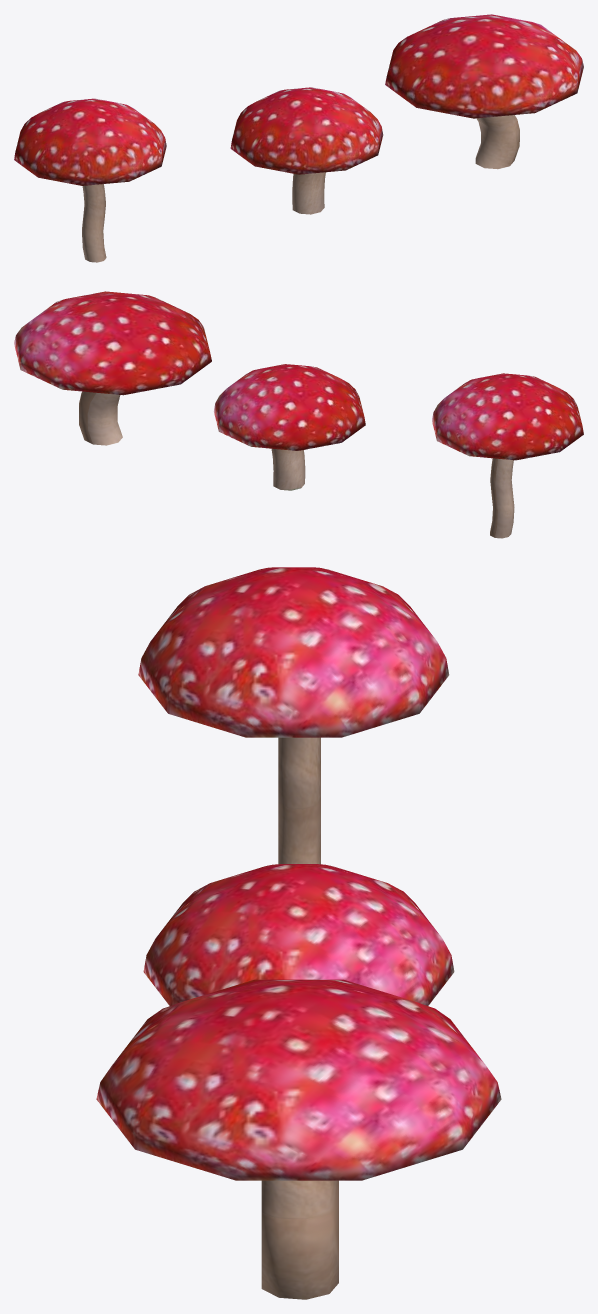
File: Mushroom.fbx
3 renders of one model, top to bottom at view 1: azimuth 30°, elevation 25°; view 2: azimuth 150°, elevation 25°; view 3: azimuth 270°, elevation 25°, orthographic. The views are drawn at different scales.
Visible parts, largest first — view 1: Mushroom_2, Mushroom_3, Mushroom_1; view 2: Mushroom_2, Mushroom_3, Mushroom_1; view 3: Mushroom_2, Mushroom_3, Mushroom_1.
Boxes of the visible parts, box(x1,y1,x2,y2) form: Mushroom_2: box(385, 14, 583, 169); Mushroom_3: box(14, 98, 166, 262); Mushroom_1: box(230, 87, 383, 214); Mushroom_2: box(14, 291, 211, 445); Mushroom_3: box(432, 373, 583, 538); Mushroom_1: box(214, 364, 365, 490); Mushroom_2: box(96, 979, 501, 1299); Mushroom_3: box(138, 567, 449, 864); Mushroom_1: box(143, 864, 454, 1005).
Bounding box in the file's own units: 2591 × 713 × 840.
